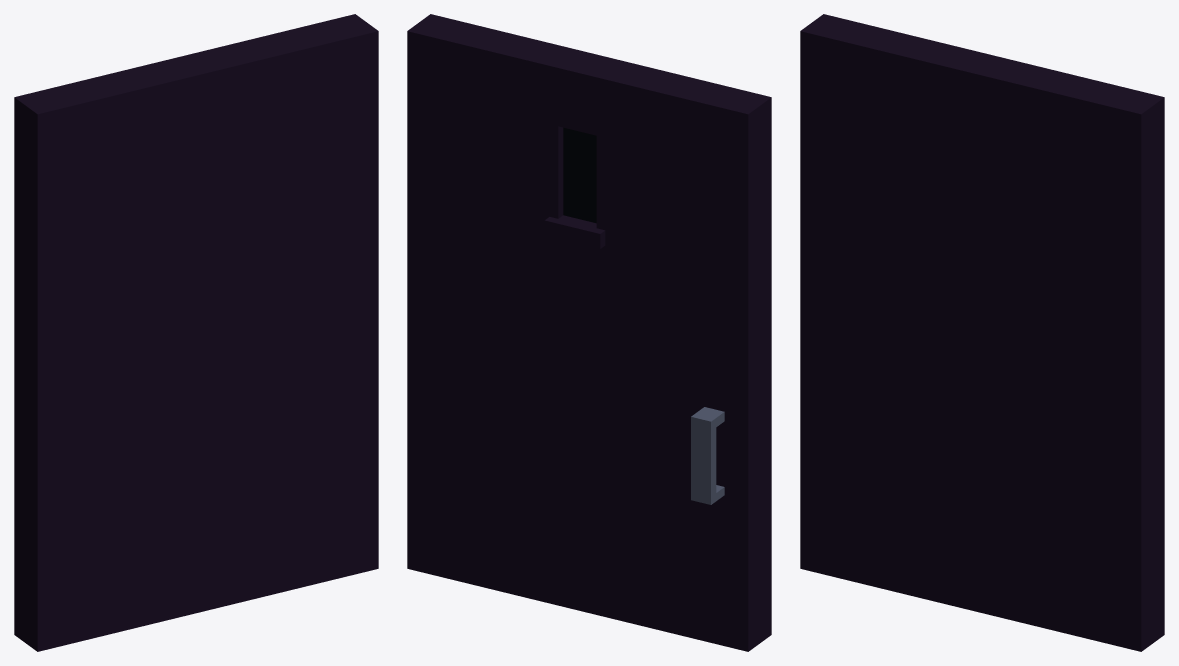
The model's file is Building_Door_Square_Dark.fbx.
The picture shows the model from 3 angles, left to right: view 1: azimuth 30°, elevation 25°; view 2: azimuth 150°, elevation 25°; view 3: azimuth 330°, elevation 25°; orthographic projection.
Visible parts, largest first — view 1: Cube.049; view 2: Cube.049; view 3: Cube.049.
Boxes of the visible parts, x1=… form: Cube.049: x1=14, y1=14, x2=378, y2=651; Cube.049: x1=407, y1=14, x2=771, y2=651; Cube.049: x1=800, y1=14, x2=1164, y2=651.
Size of the model in its own units: 87.3 by 131 by 16.39.
